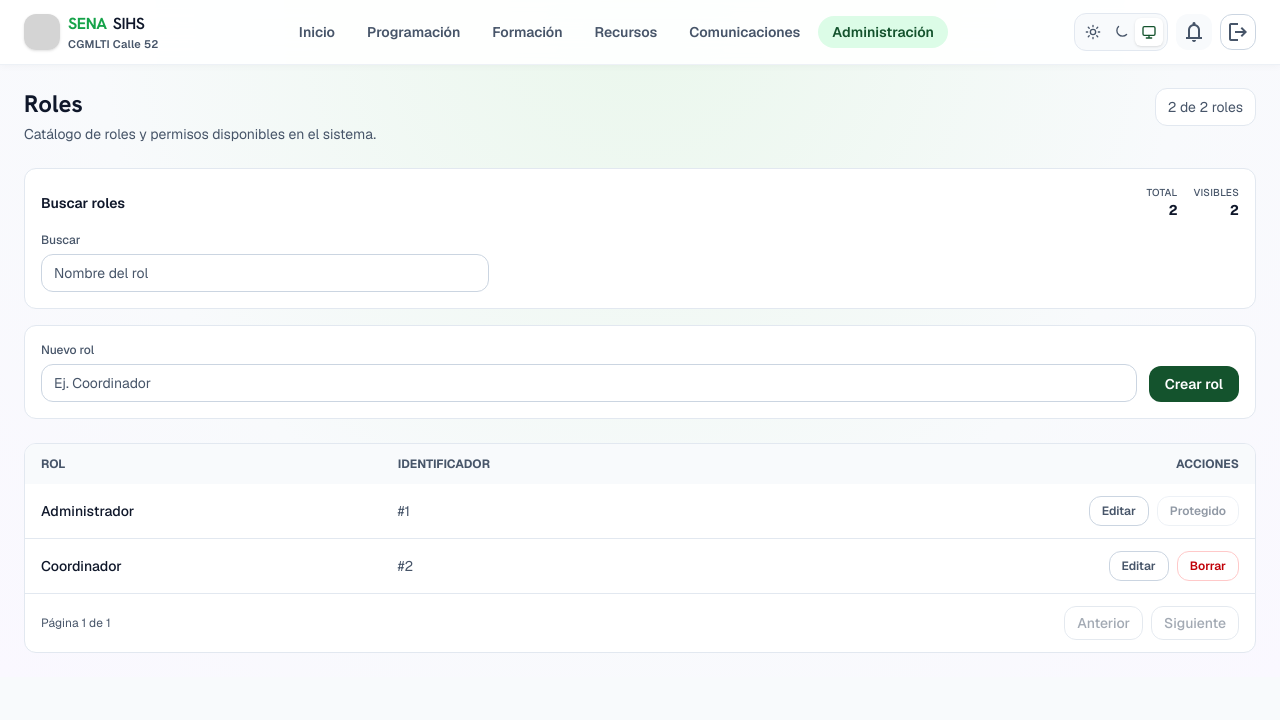
Test: Roles › carga el catálogo y crea un rol
Expected: the text "Administrador" is shown, [25, 484, 382, 538]
Expected: the text "2 de 2 roles" is shown, [1155, 88, 1256, 126]
Type "Instructor" into the field labelled "Nuevo rol" at (589, 383), box [41, 364, 1137, 402]
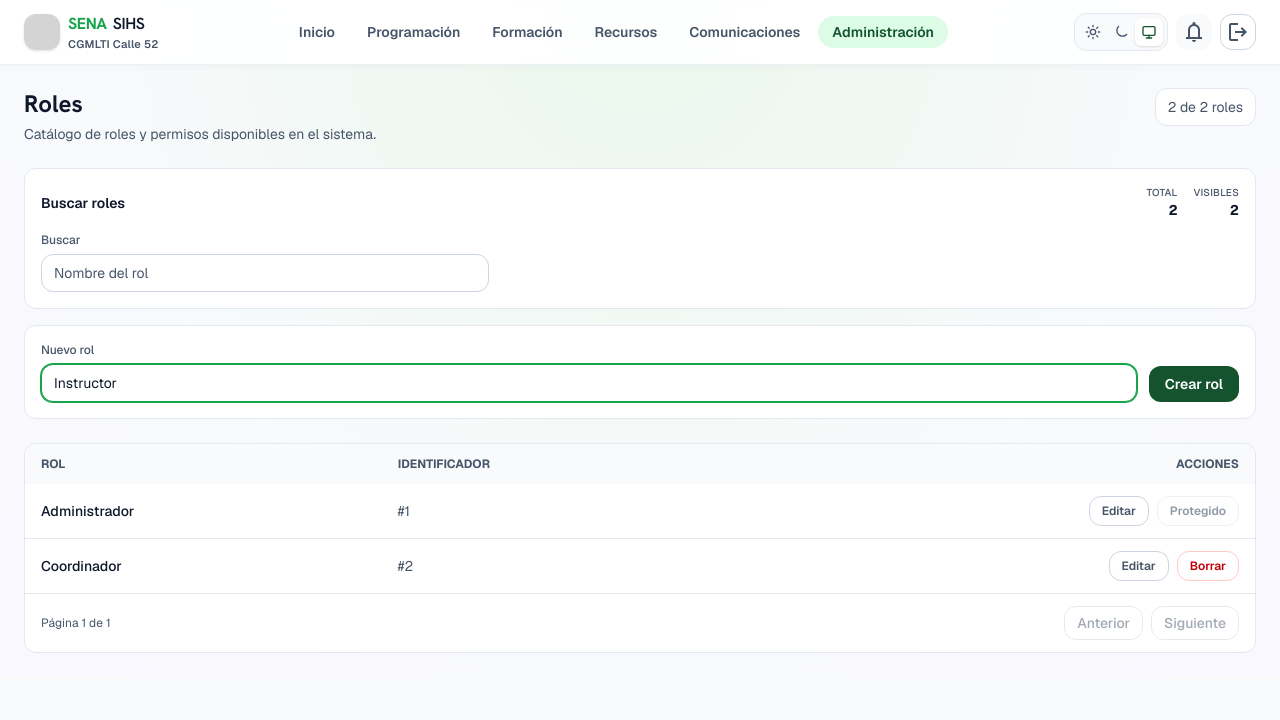
Click the button "Crear rol" at (1194, 384), box [1149, 366, 1239, 402]
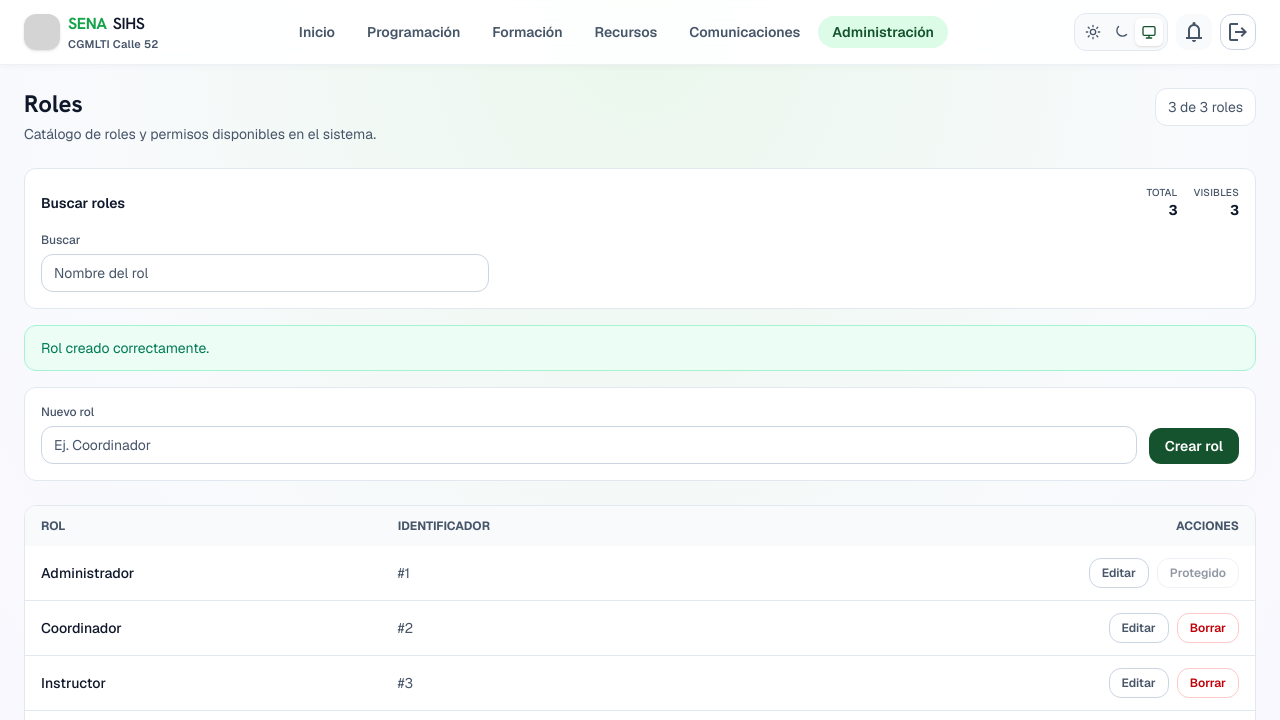
Expected: the text "Rol creado correctamente." is shown, [24, 325, 1256, 371]
